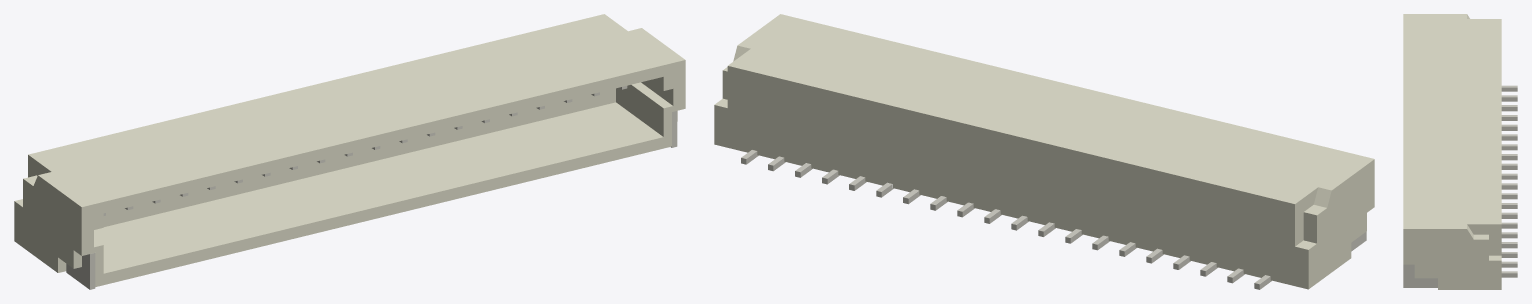
File: kc-jst_sh_sm20b-srss-tb_1x20-1mp_p1.00mm_horizontal.glb
3 renders of one model, left to right at view 1: azimuth 30°, elevation 25°; view 2: azimuth 150°, elevation 25°; view 3: azimuth 270°, elevation 25°, orthographic. The views are drawn at different scales.
Parts seen in each view (by area): view 1: 0.75_0.75_0.6666666666666666_0, 0.6666666666666666_0.6666666666666666_0.5833333333333334_0.8; view 2: 0.75_0.75_0.6666666666666666_0, 0.6666666666666666_0.6666666666666666_0.5833333333333334_0.8; view 3: 0.75_0.75_0.6666666666666666_0, 0.6666666666666666_0.6666666666666666_0.5833333333333334_0.8.
Boxes of the visible parts, box(x1,y1,x2,y2) form: 0.75_0.75_0.6666666666666666_0: box(14, 14, 685, 286); 0.6666666666666666_0.6666666666666666_0.5833333333333334_0.8: box(66, 86, 677, 289); 0.75_0.75_0.6666666666666666_0: box(714, 14, 1374, 289); 0.6666666666666666_0.6666666666666666_0.5833333333333334_0.8: box(741, 150, 1366, 289); 0.75_0.75_0.6666666666666666_0: box(1403, 14, 1501, 289); 0.6666666666666666_0.6666666666666666_0.5833333333333334_0.8: box(1403, 85, 1517, 287).
Size of the model in its own units: 2.2 by 0.296 by 0.495.
